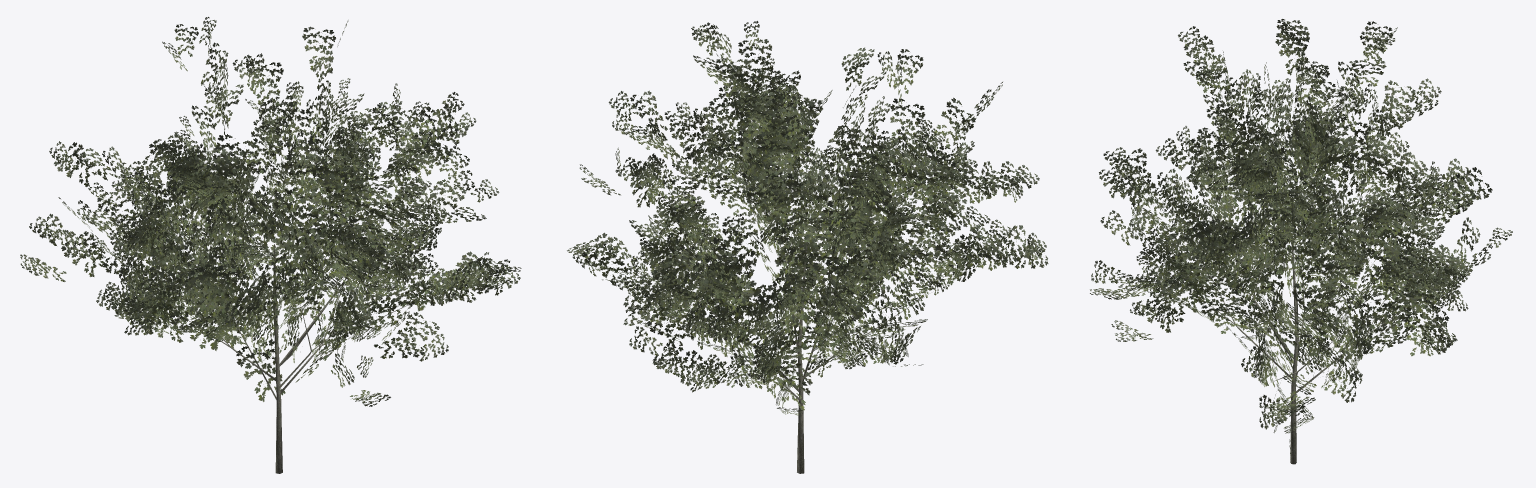
File: defaultmaplehedge.glb
3 views of the same model, side by side, from view 1: azimuth 30°, elevation 25°; view 2: azimuth 150°, elevation 25°; view 3: azimuth 270°, elevation 25° (orthographic). The views are drawn at different scales.
Parts seen in each view (by area): view 1: DefaultMapleHedge; view 2: DefaultMapleHedge; view 3: DefaultMapleHedge.
Part boxes in pixels (x1,y1,x2,y2): DefaultMapleHedge: [20, 17, 521, 473]; DefaultMapleHedge: [567, 21, 1048, 473]; DefaultMapleHedge: [1090, 19, 1512, 464].
Bounding box in the file's own units: 11.89 × 10.97 × 10.29.
Materials: 2 (2 with a texture image).
